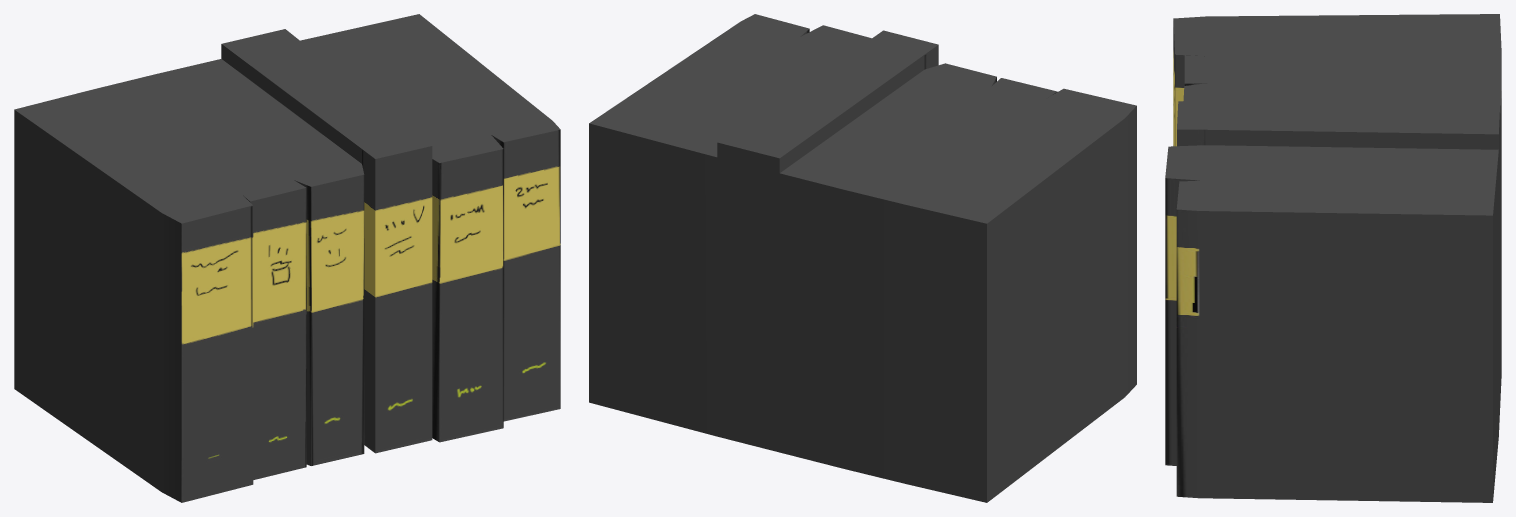
Rendered from Bücher_1.fbx.
The picture shows the model from 3 angles, left to right: view 1: azimuth 30°, elevation 25°; view 2: azimuth 150°, elevation 25°; view 3: azimuth 270°, elevation 25°; orthographic projection. The views are drawn at different scales.
Visible parts, largest first — view 1: Bücher; view 2: Bücher; view 3: Bücher.
Boxes of the visible parts, x1,y1,x2,y2 form: Bücher: (14,14,560,502); Bücher: (589,14,1136,502); Bücher: (1165,14,1501,502).
Bounding box in the file's own units: 27.68 × 19.38 × 19.52.
Materials: 1 (1 with a texture image).
